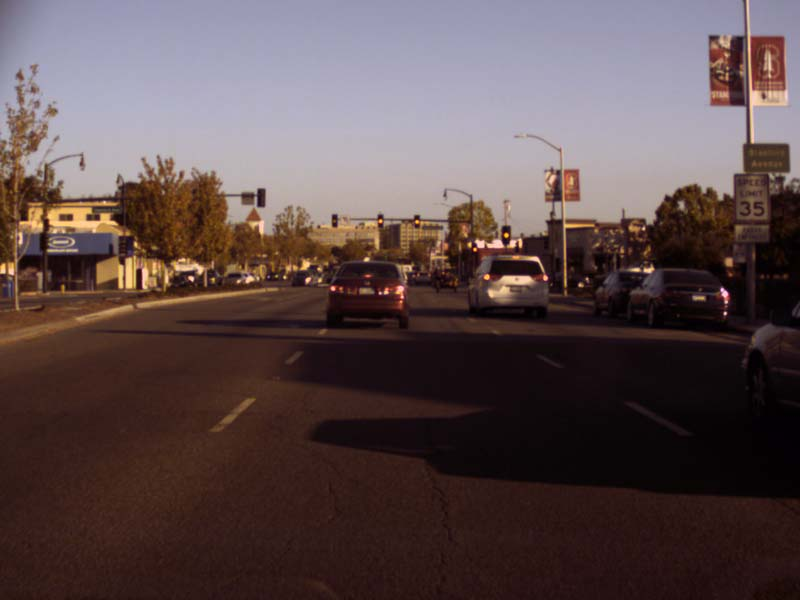Yellow: (502, 226, 509, 243), (414, 215, 419, 227), (378, 214, 382, 227), (332, 214, 336, 226), (472, 245, 477, 252)
